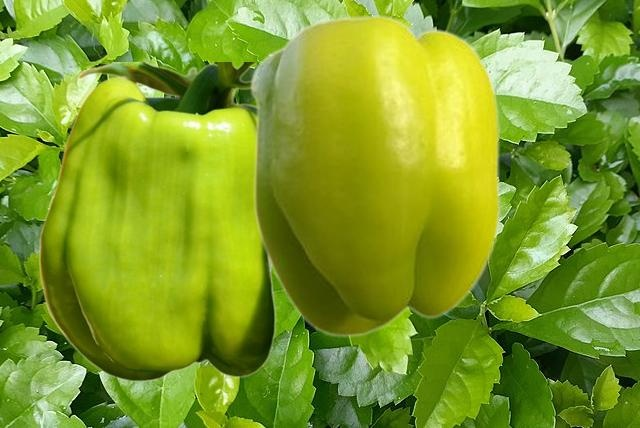bell_pepper: (249, 13, 499, 336), (38, 62, 278, 381)
